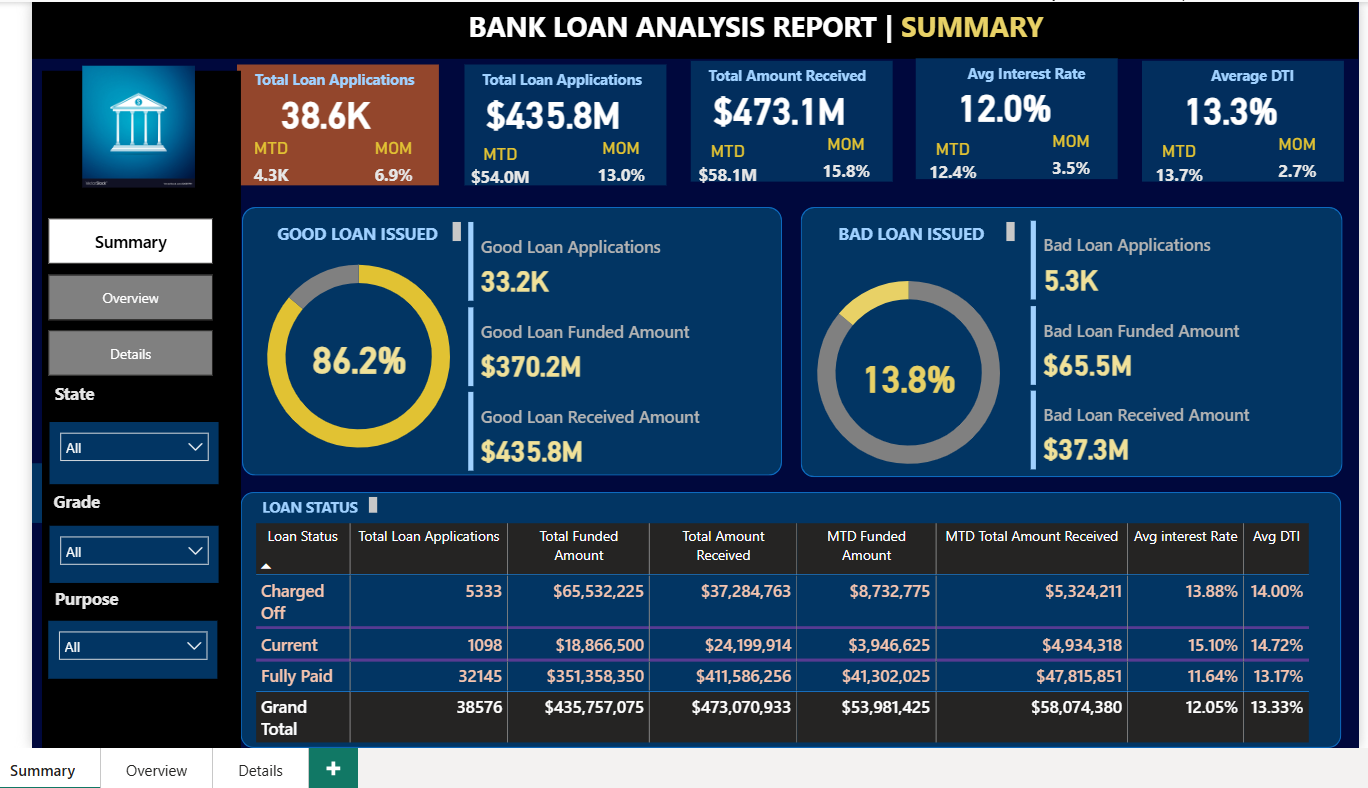

The dashboard page shown, as its layout file describes it:
{"tool":"powerbi","page":{"name":"Summary","canvas":[1280,720],"ordinal":0},"visuals":[{"type":"shape","box":[0,0,1280.3,54.9],"z":0},{"type":"shape","box":[852.5,54.9,194.9,116.6],"z":0,"group":"g4"},{"type":"shape","box":[634.7,56.3,194.9,116.6],"z":0,"group":"g3"},{"type":"shape","box":[1070.3,56.3,194.9,116.6],"z":0,"group":"g5"},{"type":"shape","box":[197.6,60.4,194.9,116.6],"z":0,"group":"g1"},{"type":"shape","box":[416.8,60.4,194.9,116.6],"z":0,"group":"g2"},{"type":"card","fields":{"Values":["bank_loan_data.Avg interest Rate"]},"box":[852.5,67.2,171.5,67.2],"z":1000,"group":"g4"},{"type":"card","fields":{"Values":["bank_loan_data.Total Amount Received"]},"box":[634.7,68.6,171.5,67.2],"z":1000,"group":"g3"},{"type":"card","fields":{"Values":["bank_loan_data.Avg DTI"]},"box":[1070.3,68.6,171.5,67.2],"z":1000,"group":"g5"},{"type":"card","fields":{"Values":["bank_loan_data.Total Loan Applications"]},"box":[197.6,72.7,171.5,67.2],"z":1000,"group":"g1"},{"type":"card","fields":{"Values":["bank_loan_data.Total Funded Amount"]},"box":[416.8,72.7,171.5,67.2],"z":1000,"group":"g2"},{"type":"card","fields":{"Values":["bank_loan_data.Good Loan %"]},"box":[251.1,307.4,129,67.2],"z":1000},{"type":"textbox","box":[415.8,0,616.1,49.4],"z":2000},{"type":"textbox","box":[864.9,54.9,189.4,39.8],"z":2000,"group":"g4"},{"type":"textbox","box":[647.1,56.3,189.4,39.8],"z":2000,"group":"g3"},{"type":"textbox","box":[1082.7,56.3,189.4,39.8],"z":2000,"group":"g5"},{"type":"textbox","box":[209.9,60.4,189.4,39.8],"z":2000,"group":"g1"},{"type":"textbox","box":[429.1,60.4,189.4,39.8],"z":2000,"group":"g2"},{"type":"card","title":"MTD","fields":{"Values":["bank_loan_data.MTD Loan Applications"]},"box":[197.6,130.4,65.9,57.6],"z":3000,"group":"g1"},{"type":"card","title":"MTD","fields":{"Values":["bank_loan_data.MTD Avg Interest Rate"]},"box":[847,131.7,83.7,50.8],"z":3000,"group":"g4"},{"type":"card","title":"MTD","fields":{"Values":["bank_loan_data.MTD Total Amount Received"]},"box":[629.2,133.1,83.7,50.8],"z":3000,"group":"g3"},{"type":"card","title":"MTD","fields":{"Values":["bank_loan_data.MTD Avg DTI"]},"box":[1064.8,133.1,83.7,50.8],"z":3000,"group":"g5"},{"type":"card","title":"MTD","fields":{"Values":["bank_loan_data.MTD Funded Amount"]},"box":[409.9,136.7,83.7,50.8],"z":3000,"group":"g2"},{"type":"textbox","box":[220.9,207.2,189.4,39.8],"z":3000},{"type":"group","id":"g1","title":"Group 1","box":[197.6,60.4,201.7,127.6],"z":4000},{"type":"card","title":"MOM","fields":{"Values":["bank_loan_data.MOM Avg Interest Rate"]},"box":[970.5,124.9,65.9,57.6],"z":4000,"group":"g4"},{"type":"card","title":"MOM","fields":{"Values":["bank_loan_data.MOM Total Amount Received"]},"box":[752.7,126.3,65.9,57.6],"z":4000,"group":"g3"},{"type":"card","title":"MOM","fields":{"Values":["bank_loan_data.MOM Avg DTI"]},"box":[1188.3,126.3,65.9,57.6],"z":4000,"group":"g5"},{"type":"card","title":"MOM","fields":{"Values":["bank_loan_data.MOM Loan Application"]},"box":[315.6,130.4,65.9,57.6],"z":4000,"group":"g1"},{"type":"card","title":"MOM","fields":{"Values":["bank_loan_data.MOM Total Funded Amount"]},"box":[534.8,130.4,65.9,57.6],"z":4000,"group":"g2"},{"type":"group","id":"g2","title":"Group 1","box":[409.9,60.4,208.6,127.6],"z":5000},{"type":"group","id":"g3","title":"Group 1","box":[629.2,56.3,207.2,127.6],"z":6000},{"type":"group","id":"g4","title":"Group 1","box":[847,54.9,207.2,127.6],"z":7000},{"type":"group","id":"g5","title":"Group 1","box":[1064.8,56.3,207.2,127.6],"z":8000},{"type":"shape","box":[203.1,197.6,521.4,259.3],"z":9000},{"type":"donutChart","fields":{"Category":["bank_loan_data.Good Vs Bad Loan"],"Y":["bank_loan_data.Total Loan Applications"]},"box":[190.7,226.4,249.7,230.5],"z":10000},{"type":"shape","box":[742.4,197.6,522.8,260.7],"z":11000},{"type":"donutChart","fields":{"Category":["bank_loan_data.Good Vs Bad Loan"],"Y":["bank_loan_data.Total Loan Applications"]},"box":[721.8,242.9,249.7,230.5],"z":12000},{"type":"textbox","box":[216.8,207.2,201.7,30.2],"z":13000},{"type":"cardVisual","fields":{"Data":["bank_loan_data.Good Loan Applications","bank_loan_data.Good Loan Funded Amount","bank_loan_data.Good Loan Received Amount"]},"box":[415.8,207.2,293.7,252.5],"z":14000},{"type":"textbox","box":[752,207.2,201.7,30.2],"z":15000},{"type":"card","fields":{"Values":["bank_loan_data.Good Loan %"]},"box":[230.5,308.7,171.5,67.2],"z":16000},{"type":"card","fields":{"Values":["bank_loan_data.Bad Loan %"]},"box":[780.8,328,131.7,67.2],"z":17000},{"type":"cardVisual","fields":{"Data":["bank_loan_data.Bad Loan Applications","bank_loan_data.Bad Loan Funded Amount","bank_loan_data.Bad Loan Received Amount"]},"box":[959.2,205.8,293.7,252.5],"z":18000},{"type":"shape","box":[201.7,473.4,1062.1,247],"z":19000},{"type":"tableEx","fields":{"Values":["bank_loan_data.loan_status","bank_loan_data.Total Loan Applications","bank_loan_data.Total Funded Amount","bank_loan_data.Total Amount Received","bank_loan_data.MTD Funded Amount","bank_loan_data.MTD Total Amount Received","bank_loan_data.Avg interest Rate","bank_loan_data.Avg DTI"]},"box":[209.9,498.1,1055.2,222.3],"z":20000},{"type":"textbox","box":[216.8,473.4,120.8,24.7],"z":21000},{"type":"slicer","fields":{"Values":["bank_loan_data.address_state"]},"box":[0,444.6,190.7,57.6],"z":22000},{"type":"shape","box":[9.6,65.9,192.1,654.5],"z":23000},{"type":"slicer","fields":{"Values":["bank_loan_data.address_state"]},"box":[16.5,404.8,163.3,60.4],"z":24000},{"type":"textbox","box":[16.5,362.3,161.9,37],"z":25000},{"type":"slicer","fields":{"Values":["bank_loan_data.grade"]},"box":[16.5,505,163.3,54.9],"z":26000},{"type":"textbox","box":[15.1,465.2,161.9,37],"z":27000},{"type":"slicer","fields":{"Values":["bank_loan_data.purpose"]},"box":[15.1,596.9,163.3,56.3],"z":28000},{"type":"textbox","box":[16.5,559.9,161.9,37],"z":29000},{"type":"pageNavigator","box":[15.1,208.6,159.2,153.7],"z":30000},{"type":"image","box":[15.1,56.3,174.3,127.6],"z":31000}]}

Visuals, with their boxes on the page's 1280x720 design canvas (x1, y1, x2, y2). These are canvas units, not pixel positions in the 1368x788 screenshot, which may show the page scaled, cropped or inside an application window:
shape: x1=0 y1=0 x2=1280 y2=55
shape: x1=852 y1=55 x2=1047 y2=172
shape: x1=635 y1=56 x2=830 y2=173
shape: x1=1070 y1=56 x2=1265 y2=173
shape: x1=198 y1=60 x2=392 y2=177
shape: x1=417 y1=60 x2=612 y2=177
card - bank_loan_data.Avg interest Rate: x1=852 y1=67 x2=1024 y2=134
card - bank_loan_data.Total Amount Received: x1=635 y1=69 x2=806 y2=136
card - bank_loan_data.Avg DTI: x1=1070 y1=69 x2=1242 y2=136
card - bank_loan_data.Total Loan Applications: x1=198 y1=73 x2=369 y2=140
card - bank_loan_data.Total Funded Amount: x1=417 y1=73 x2=588 y2=140
card - bank_loan_data.Good Loan %: x1=251 y1=307 x2=380 y2=375
textbox: x1=416 y1=0 x2=1032 y2=49
textbox: x1=865 y1=55 x2=1054 y2=95
textbox: x1=647 y1=56 x2=836 y2=96
textbox: x1=1083 y1=56 x2=1272 y2=96
textbox: x1=210 y1=60 x2=399 y2=100
textbox: x1=429 y1=60 x2=618 y2=100
"MTD" card: x1=198 y1=130 x2=264 y2=188
"MTD" card: x1=847 y1=132 x2=931 y2=182
"MTD" card: x1=629 y1=133 x2=713 y2=184
"MTD" card: x1=1065 y1=133 x2=1148 y2=184
"MTD" card: x1=410 y1=137 x2=494 y2=188
textbox: x1=221 y1=207 x2=410 y2=247
"Group 1" group: x1=198 y1=60 x2=399 y2=188
"MOM" card: x1=970 y1=125 x2=1036 y2=182
"MOM" card: x1=753 y1=126 x2=819 y2=184
"MOM" card: x1=1188 y1=126 x2=1254 y2=184
"MOM" card: x1=316 y1=130 x2=382 y2=188
"MOM" card: x1=535 y1=130 x2=601 y2=188
"Group 1" group: x1=410 y1=60 x2=618 y2=188
"Group 1" group: x1=629 y1=56 x2=836 y2=184
"Group 1" group: x1=847 y1=55 x2=1054 y2=182
"Group 1" group: x1=1065 y1=56 x2=1272 y2=184
shape: x1=203 y1=198 x2=724 y2=457
donutChart - bank_loan_data.Good Vs Bad Loan x bank_loan_data.Total Loan Applications: x1=191 y1=226 x2=440 y2=457
shape: x1=742 y1=198 x2=1265 y2=458
donutChart - bank_loan_data.Good Vs Bad Loan x bank_loan_data.Total Loan Applications: x1=722 y1=243 x2=972 y2=473
textbox: x1=217 y1=207 x2=418 y2=237
cardVisual - bank_loan_data.Good Loan Applications x bank_loan_data.Good Loan Funded Amount: x1=416 y1=207 x2=710 y2=460
textbox: x1=752 y1=207 x2=954 y2=237
card - bank_loan_data.Good Loan %: x1=230 y1=309 x2=402 y2=376
card - bank_loan_data.Bad Loan %: x1=781 y1=328 x2=912 y2=395
cardVisual - bank_loan_data.Bad Loan Applications x bank_loan_data.Bad Loan Funded Amount: x1=959 y1=206 x2=1253 y2=458
shape: x1=202 y1=473 x2=1264 y2=720
tableEx - bank_loan_data.loan_status x bank_loan_data.Total Loan Applications: x1=210 y1=498 x2=1265 y2=720
textbox: x1=217 y1=473 x2=338 y2=498
slicer - bank_loan_data.address_state: x1=0 y1=445 x2=191 y2=502
shape: x1=10 y1=66 x2=202 y2=720
slicer - bank_loan_data.address_state: x1=16 y1=405 x2=180 y2=465
textbox: x1=16 y1=362 x2=178 y2=399
slicer - bank_loan_data.grade: x1=16 y1=505 x2=180 y2=560
textbox: x1=15 y1=465 x2=177 y2=502
slicer - bank_loan_data.purpose: x1=15 y1=597 x2=178 y2=653
textbox: x1=16 y1=560 x2=178 y2=597
pageNavigator: x1=15 y1=209 x2=174 y2=362
image: x1=15 y1=56 x2=189 y2=184
